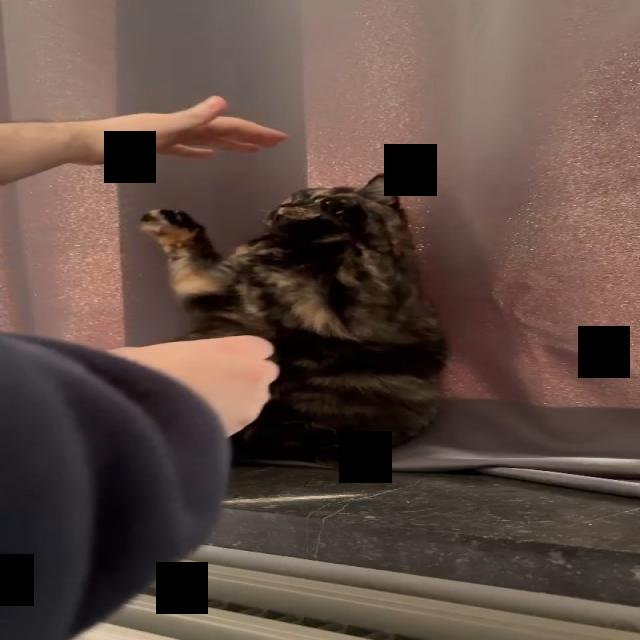authorized: (138, 172, 450, 469)
